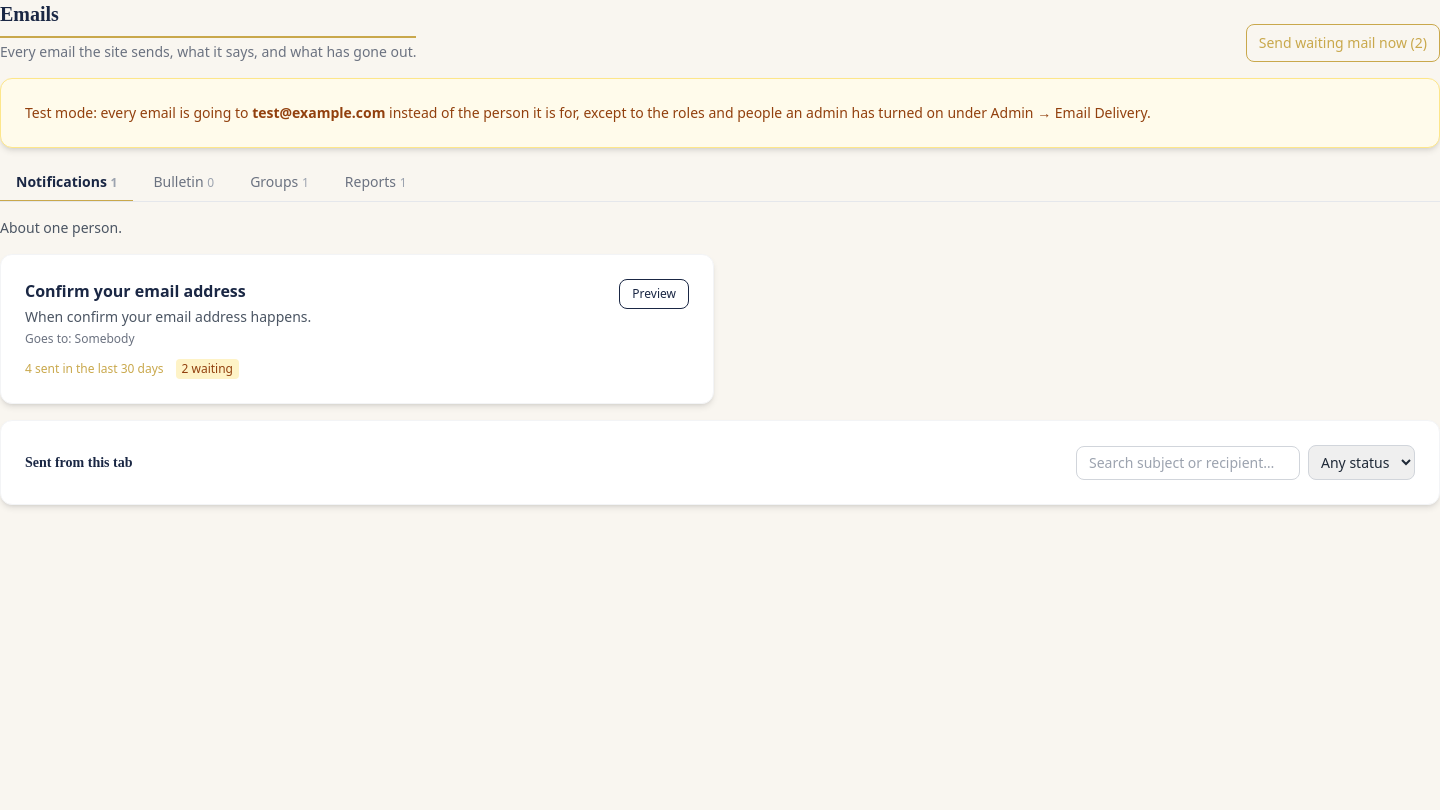
EmailsView › previews an email without sending anything
Click the button "Preview" at (654, 294), box x1=619 y1=279 x2=689 y2=309
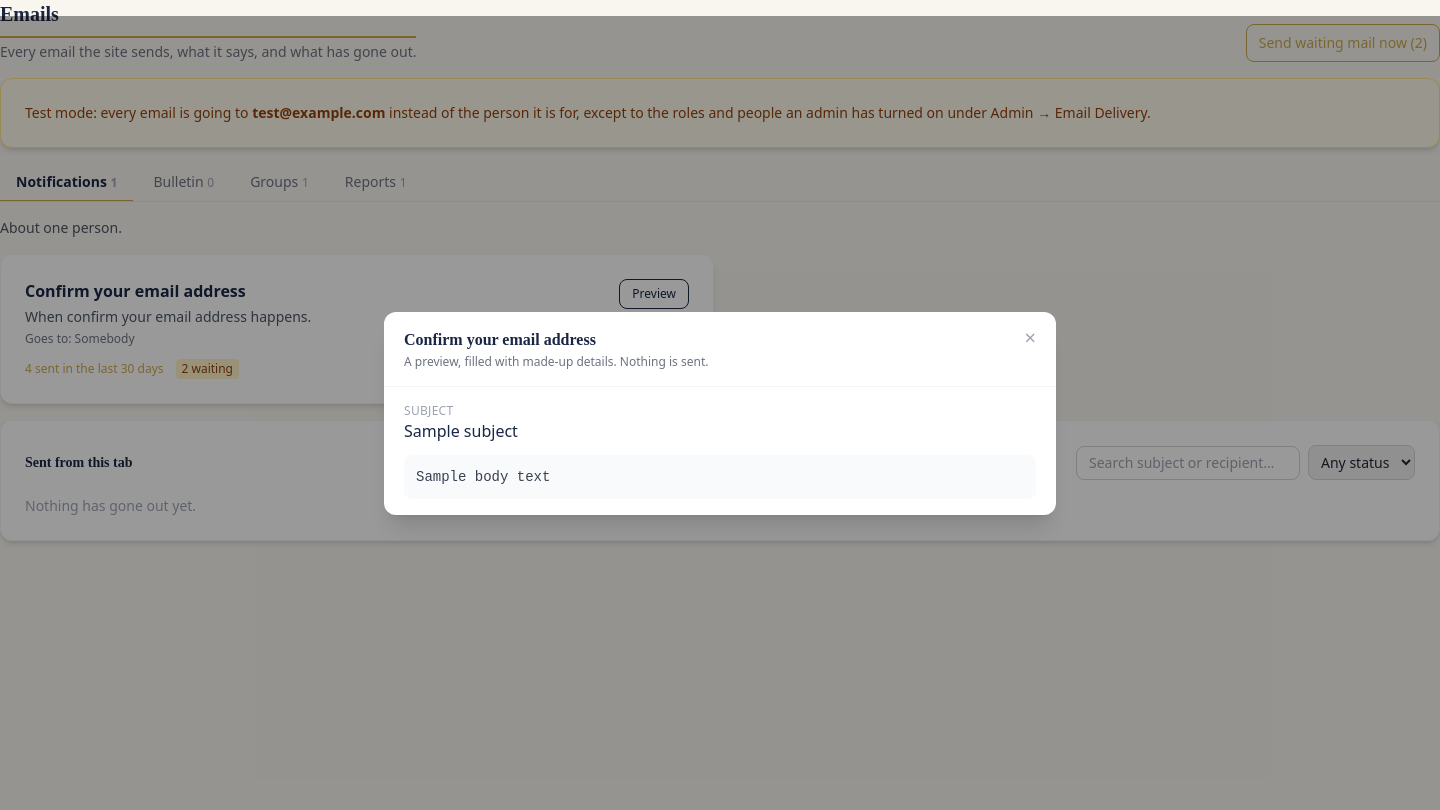
Result: the text "Sample subject" is shown at x1=404 y1=420 x2=518 y2=442
Result: the text "Sample body text" is shown at x1=404 y1=454 x2=1036 y2=498
Press Escape
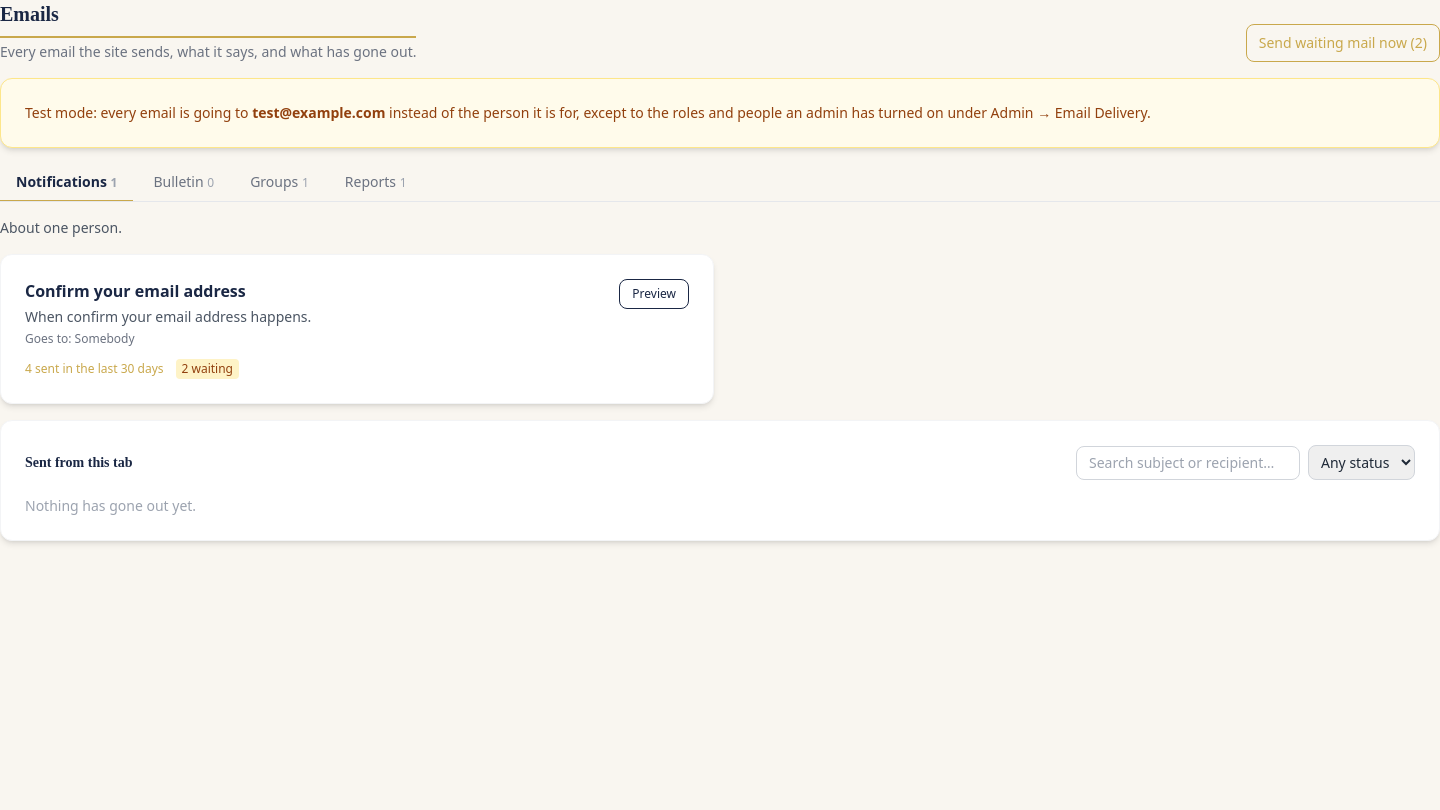
Result: the dialog is gone
